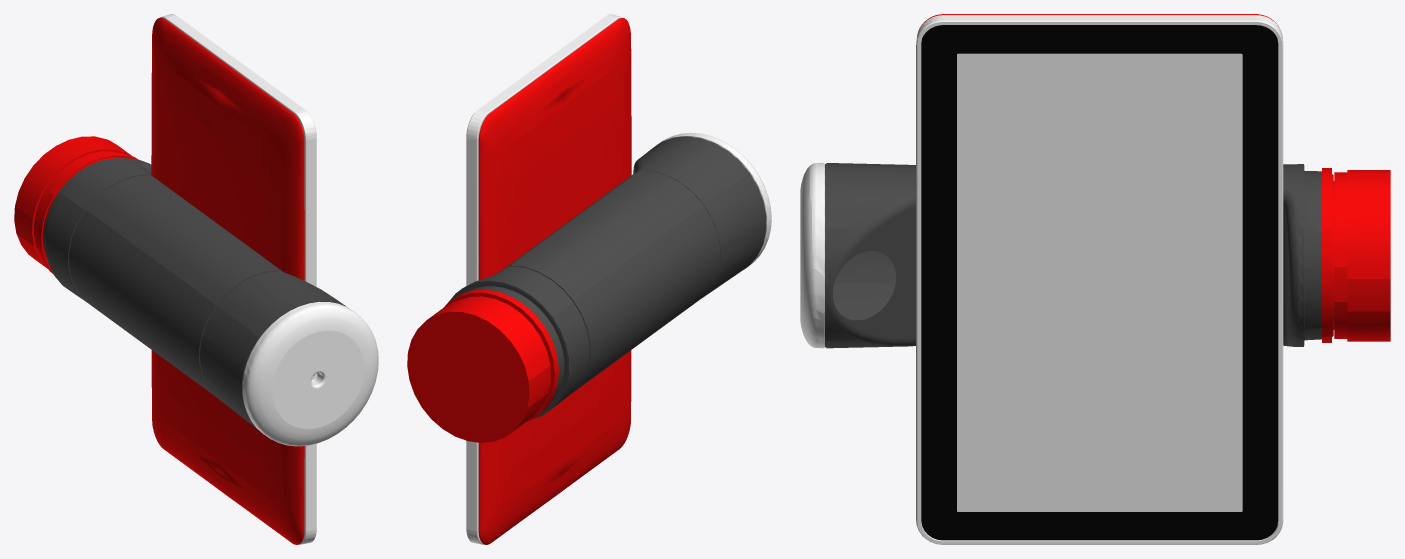
The model's file is head.obj.
3 views of the same model, side by side, from view 1: azimuth 30°, elevation 25°; view 2: azimuth 150°, elevation 25°; view 3: azimuth 270°, elevation 25° (orthographic). The views are drawn at different scales.
Parts seen in each view (by area): view 1: _3DGeom_275_geo_1.017, _3DGeom_279_geo_5.005, _3DGeom_278_geo_4.009; view 2: _3DGeom_275_geo_1.017, _3DGeom_279_geo_5.005, _3DGeom_278_geo_4.009; view 3: _3DGeom_278_geo_4.009, _3DGeom_276_geo_2.011, _3DGeom_279_geo_5.005.
Part boxes in pixels (x1,y1,x2,y2): _3DGeom_275_geo_1.017: (151,17,304,544); _3DGeom_279_geo_5.005: (37,152,347,430); _3DGeom_278_geo_4.009: (14,14,378,544); _3DGeom_275_geo_1.017: (478,18,631,544); _3DGeom_279_geo_5.005: (443,136,766,422); _3DGeom_278_geo_4.009: (407,14,771,544); _3DGeom_278_geo_4.009: (800,15,1390,544); _3DGeom_276_geo_2.011: (921,25,1278,540); _3DGeom_279_geo_5.005: (825,163,1331,348).
Bounding box in the file's own units: 0.0819 × 0.256 × 0.2612.
